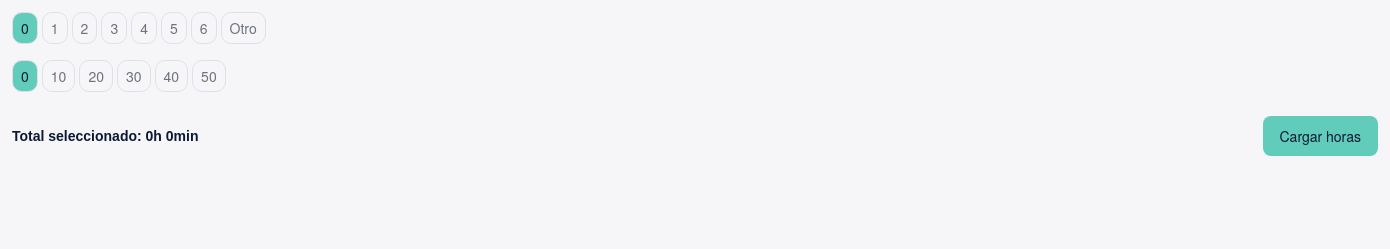
Test: TimeButtons › TS-86: al elegir "Otro" aparece un campo con label asociado (Input del DS)
The width and height of the screenshot is (1390, 249).
Click the radio button labelled "Otro": (243, 28) [221,12,266,44]
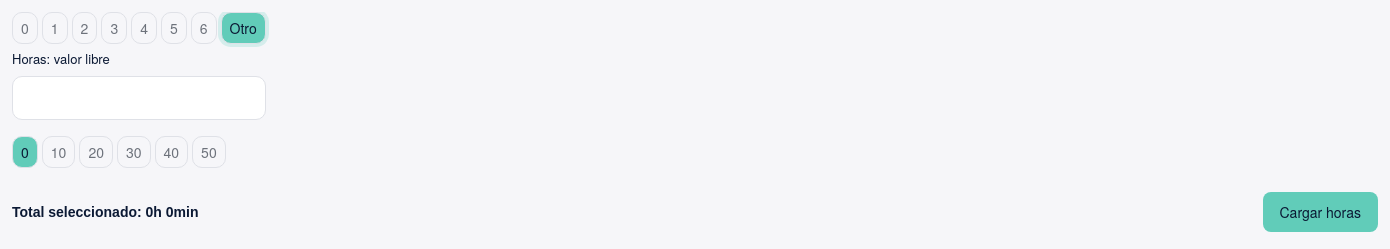
Check: the field labelled "Horas: valor libre" is shown, box [12,76,266,120]
